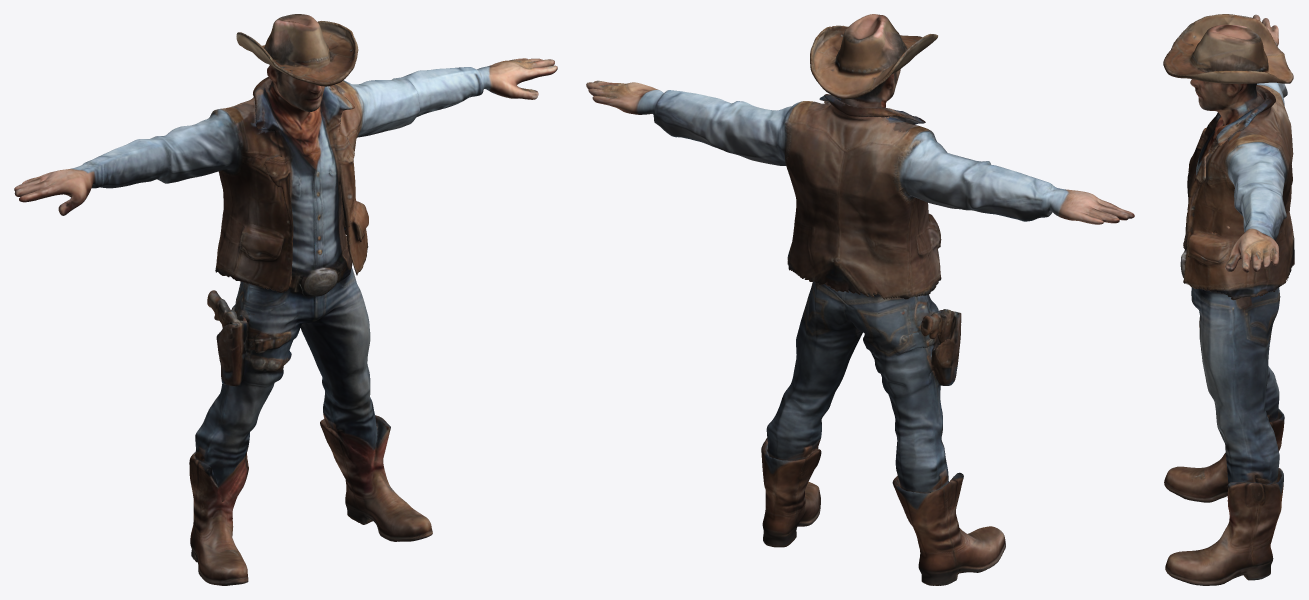
The model's file is a_cowboy_character_wi_0226190933_texture.fbx.
3 renders of one model, left to right at view 1: azimuth 30°, elevation 25°; view 2: azimuth 150°, elevation 25°; view 3: azimuth 270°, elevation 25°, orthographic. The views are drawn at different scales.
Parts seen in each view (by area): view 1: Mesh1_Mesh1.058; view 2: Mesh1_Mesh1.058; view 3: Mesh1_Mesh1.058.
Part boxes in pixels (x1,y1,x2,y2): Mesh1_Mesh1.058: (14,14,557,585); Mesh1_Mesh1.058: (586,14,1134,585); Mesh1_Mesh1.058: (1163,14,1294,585).
Bounding box in the file's own units: 201 × 188 × 44.02.
Materials: 1 (1 with a texture image).
